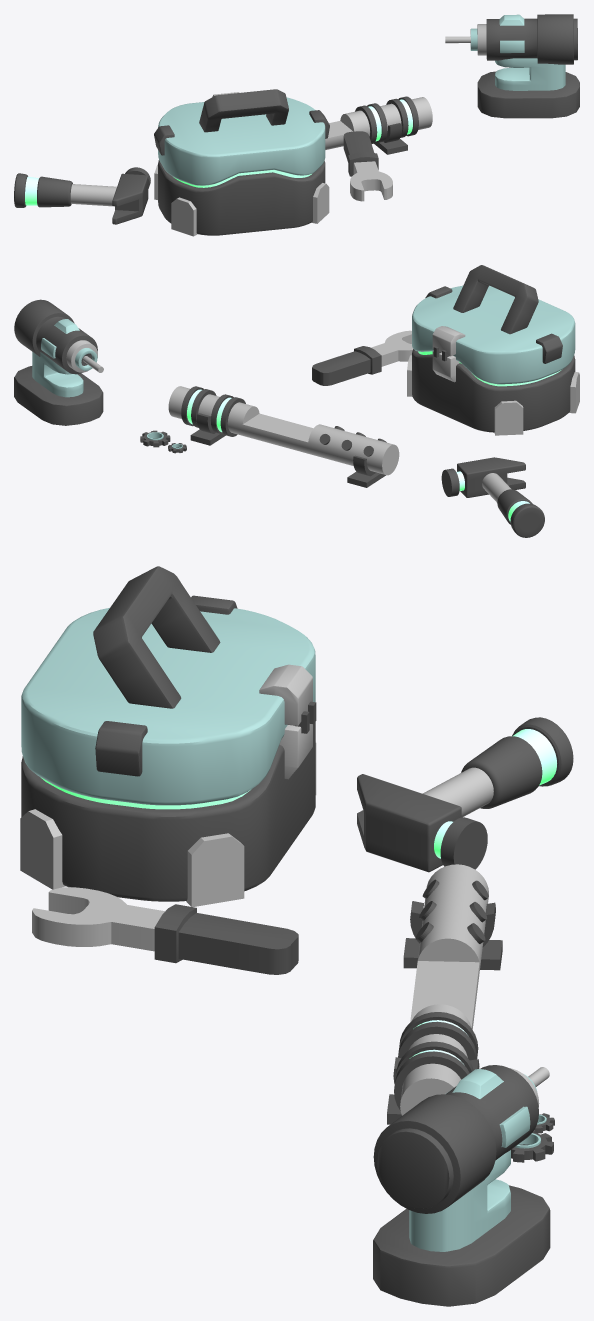
File: BureauAssemblage.fbx
3 renders of one model, top to bottom at view 1: azimuth 30°, elevation 25°; view 2: azimuth 150°, elevation 25°; view 3: azimuth 270°, elevation 25°, orthographic. The views are drawn at different scales.
Parts seen in each view (by area): view 1: Cube.045; view 2: Cube.045; view 3: Cube.045.
Boxes of the visible parts, bbox=[...] form: Cube.045: bbox=[14, 14, 579, 236]; Cube.045: bbox=[14, 265, 579, 537]; Cube.045: bbox=[20, 566, 573, 1306].
Size of the model in its own units: 180 by 50.22 by 79.07.
